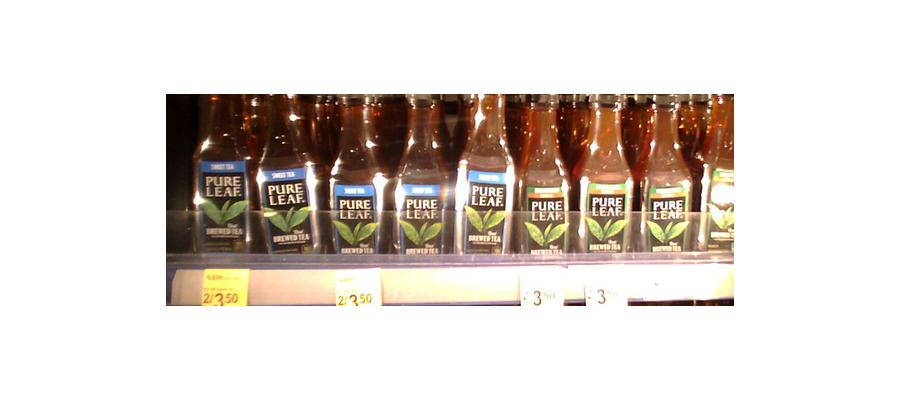bottle: (255, 91, 327, 254), (453, 90, 514, 259), (324, 94, 387, 256), (388, 90, 449, 257), (192, 87, 251, 254), (575, 90, 633, 258), (517, 97, 571, 261), (639, 93, 691, 255), (695, 92, 736, 246)
